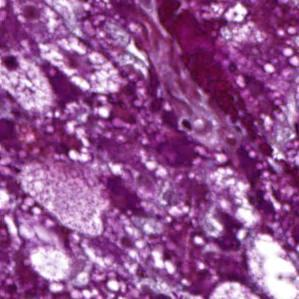ballooning: (39, 34, 126, 96), (3, 48, 58, 116), (10, 5, 65, 48)
